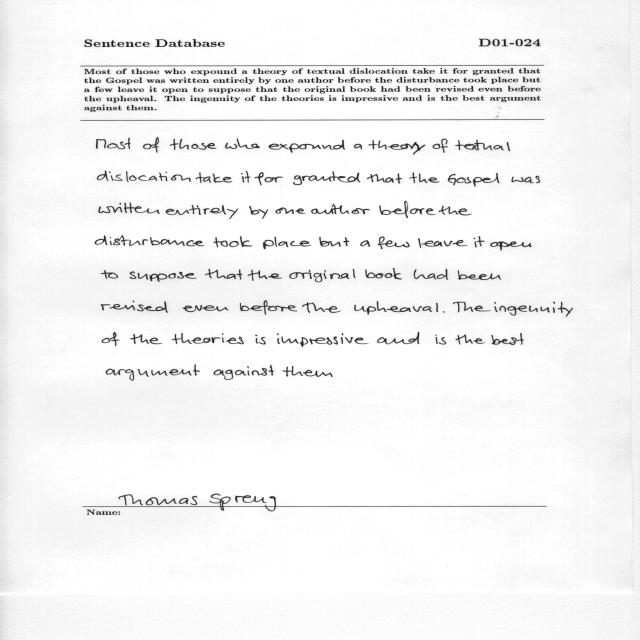word: (106, 364, 200, 381), (277, 333, 367, 347), (95, 236, 204, 247), (494, 302, 573, 317), (354, 301, 438, 315), (97, 171, 191, 182), (166, 205, 238, 219), (268, 140, 345, 153), (379, 201, 436, 218), (293, 171, 360, 185), (213, 365, 274, 380), (289, 269, 356, 282), (119, 495, 197, 506), (369, 140, 426, 155), (101, 301, 168, 313), (210, 494, 277, 506), (240, 301, 297, 315), (172, 333, 244, 344), (130, 271, 197, 282), (448, 173, 499, 187), (99, 203, 160, 214), (311, 204, 370, 215), (455, 140, 510, 151), (263, 237, 311, 249), (170, 139, 216, 150), (377, 332, 419, 344), (418, 238, 467, 248), (214, 236, 253, 248), (365, 268, 402, 280), (458, 270, 501, 280), (302, 302, 341, 313), (378, 236, 410, 249), (205, 269, 242, 280), (491, 333, 524, 345), (96, 138, 131, 149), (225, 138, 260, 149), (453, 302, 491, 312), (490, 242, 532, 251), (254, 172, 283, 185), (248, 270, 282, 281), (414, 269, 448, 280), (196, 173, 232, 183), (367, 174, 402, 184), (409, 173, 440, 184), (183, 305, 229, 312), (130, 334, 162, 344), (320, 237, 350, 247), (439, 206, 472, 215), (456, 335, 485, 345), (143, 137, 159, 153), (102, 332, 120, 346), (250, 206, 269, 219), (275, 207, 306, 214), (433, 139, 448, 153), (303, 370, 332, 377), (283, 366, 303, 376), (512, 176, 540, 183), (101, 270, 118, 279), (474, 237, 485, 248), (255, 335, 266, 345), (436, 335, 447, 345), (241, 171, 250, 183), (360, 240, 370, 247), (354, 144, 362, 149), (443, 311, 445, 313)
